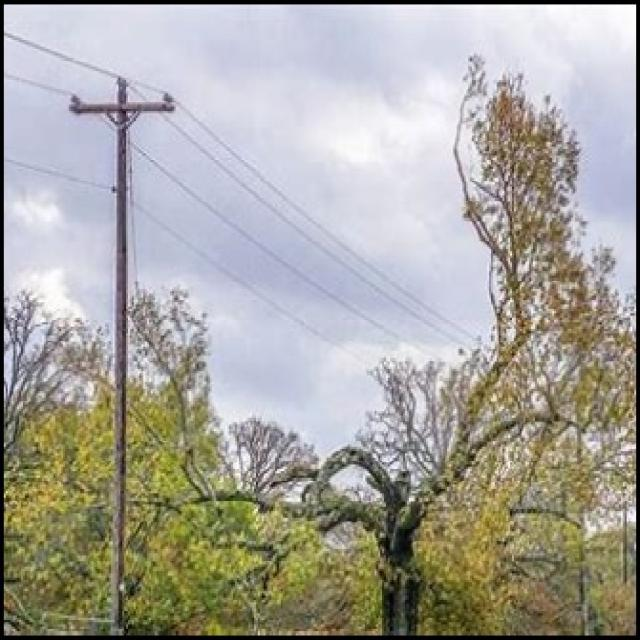utility poles: (71, 42, 176, 635)
